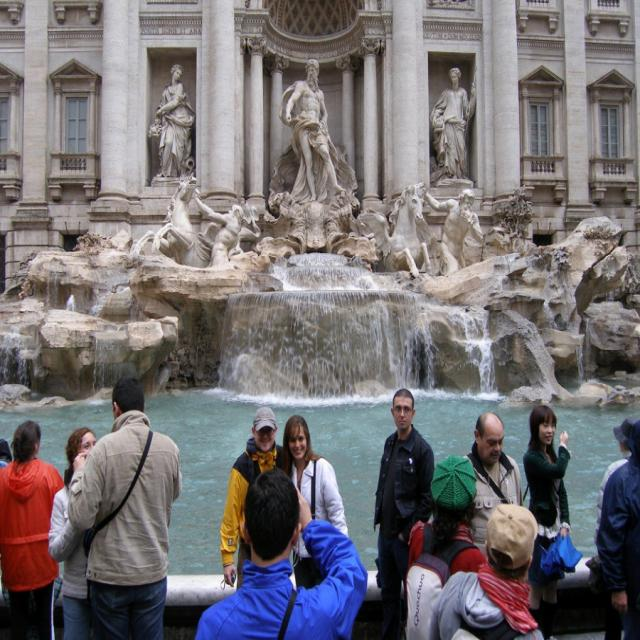body: (145, 57, 488, 274), (67, 374, 183, 639), (194, 468, 369, 640), (404, 453, 496, 639), (425, 502, 545, 640), (372, 386, 436, 640), (521, 404, 585, 640), (0, 417, 68, 639), (280, 413, 350, 591), (219, 405, 283, 592), (47, 425, 98, 640), (463, 412, 524, 560), (591, 415, 639, 554), (598, 417, 636, 526), (0, 438, 11, 474)
